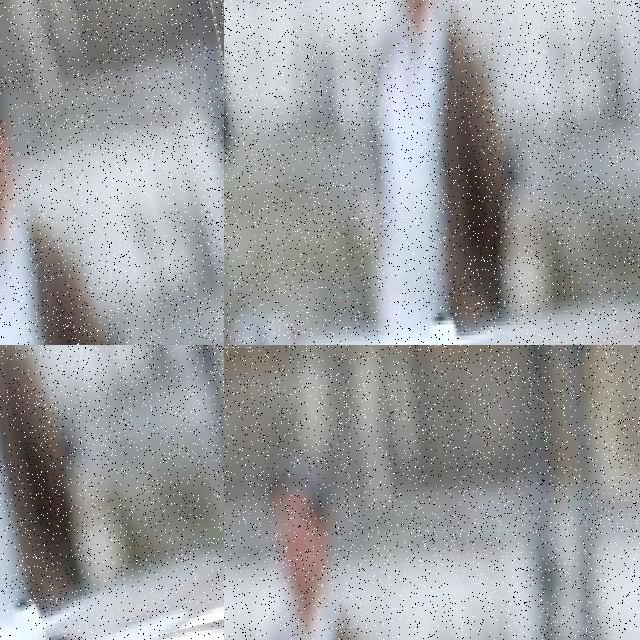drone: (0, 0, 224, 345), (0, 345, 224, 640)
